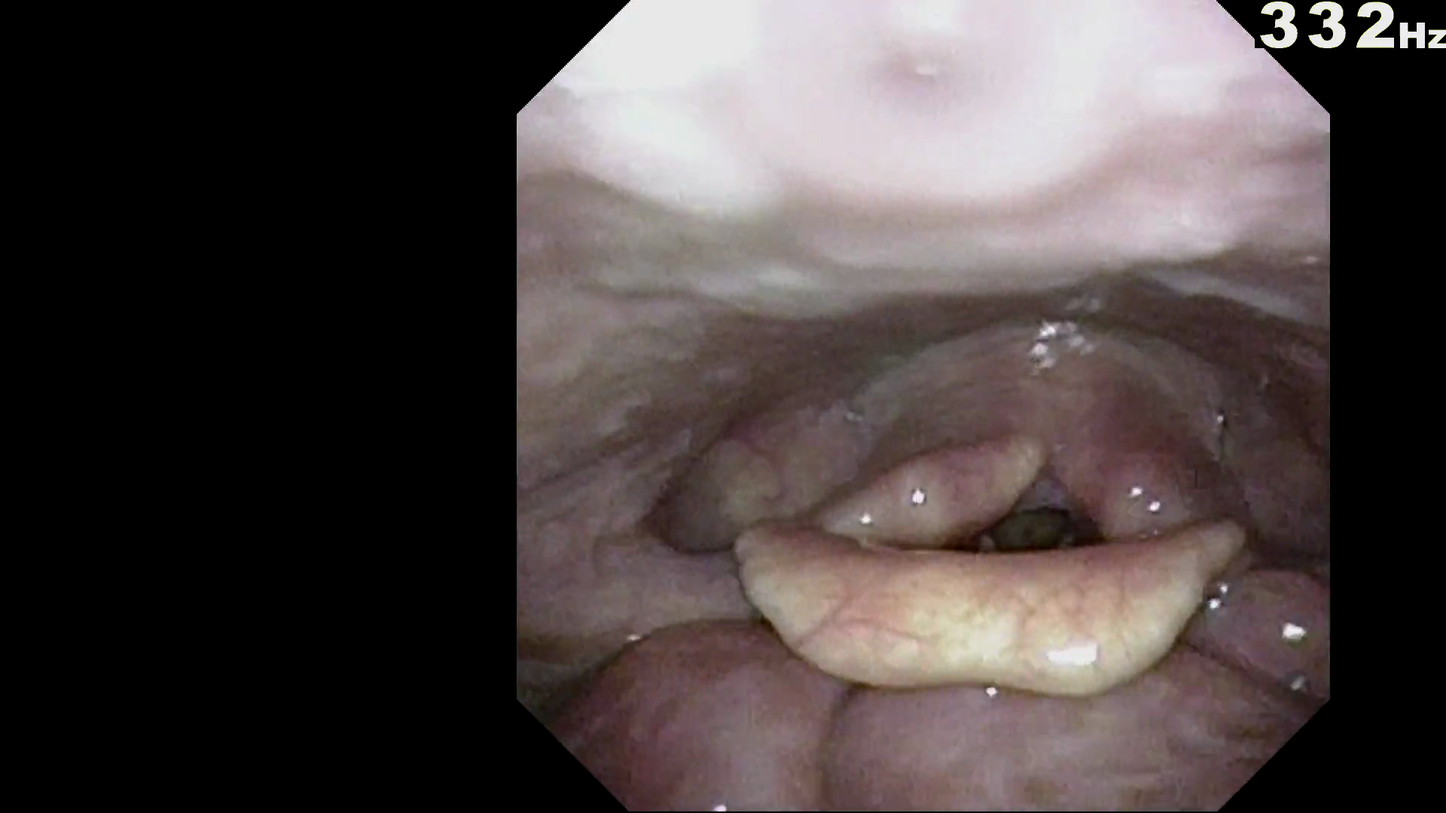epiglottis: (720, 536, 1262, 676)
trachea: (962, 484, 1117, 584)
